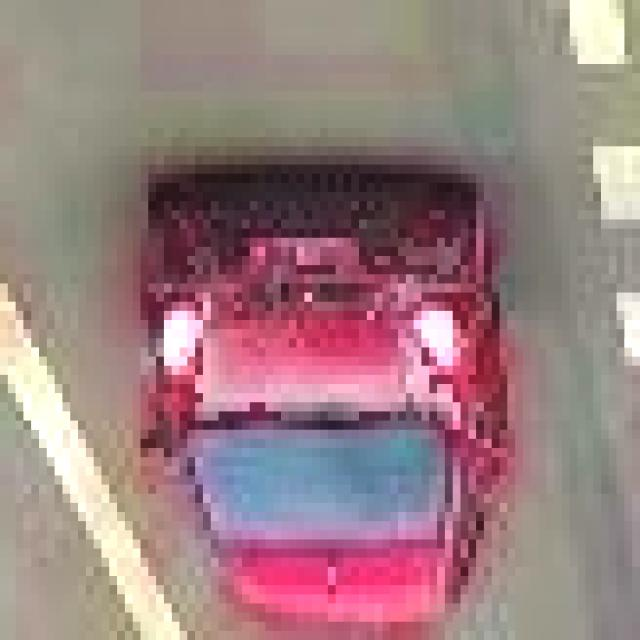maroon: (152, 192, 503, 622)
